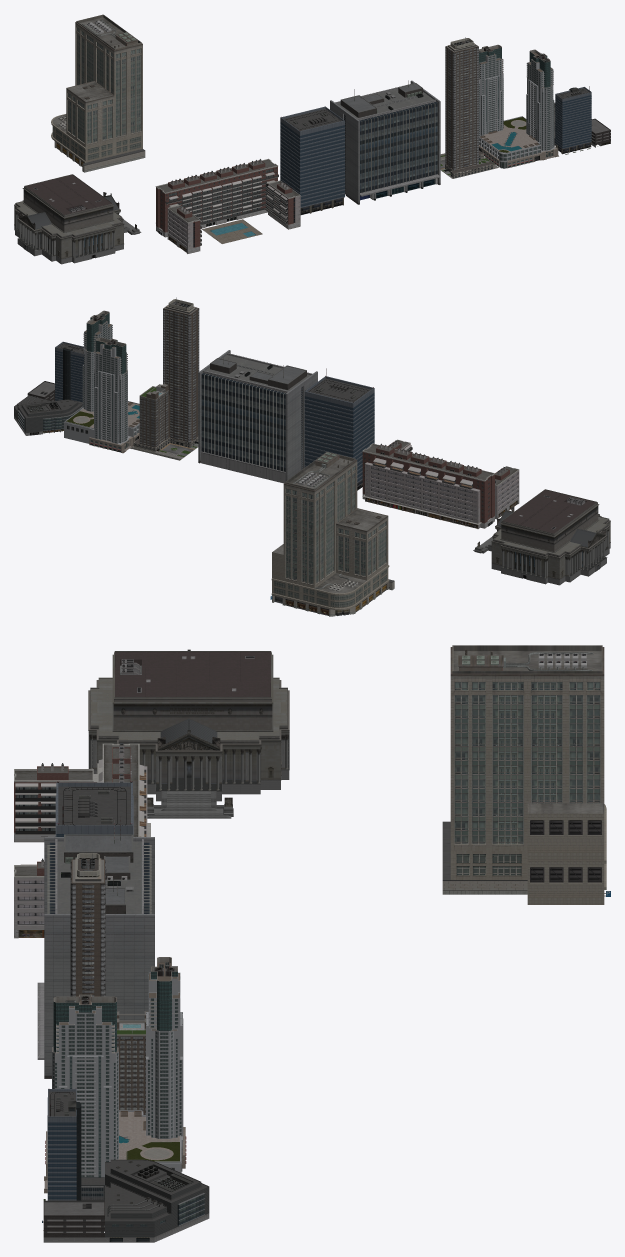
The model's file is edificios_varios.fbx.
The picture shows the model from 3 angles, top to bottom: view 1: azimuth 30°, elevation 25°; view 2: azimuth 150°, elevation 25°; view 3: azimuth 270°, elevation 25°; orthographic projection. The views are drawn at different scales.
Parts seen in each view (by area): view 1: bina.007, bina.001, bina.008, bina.005, bina, bina.009, bina.006, bina.014; view 2: bina.007, bina.001, bina.008, bina.005, bina.006, bina, bina.009, bina.014; view 3: bina.007, bina.005, bina, bina.001, bina.014, bina.008, bina.006, bina.009.
Part boxes in pixels (bbox=[...]): bina.007: bbox=[51, 14, 145, 172]; bina.001: bbox=[330, 80, 440, 204]; bina.008: bbox=[155, 158, 300, 253]; bina.005: bbox=[14, 174, 141, 264]; bina: bbox=[479, 44, 558, 168]; bina.009: bbox=[280, 106, 344, 214]; bina.006: bbox=[440, 37, 498, 178]; bina.014: bbox=[554, 86, 610, 154]; bina.007: bbox=[270, 452, 394, 616]; bina.001: bbox=[198, 350, 317, 483]; bina.008: bbox=[362, 439, 519, 528]; bina.005: bbox=[473, 489, 610, 585]; bina.006: bbox=[130, 297, 199, 460]; bina: bbox=[64, 310, 139, 453]; bina.009: bbox=[304, 368, 374, 490]; bina.014: bbox=[14, 341, 83, 435]; bina.007: bbox=[442, 645, 610, 904]; bina.005: bbox=[88, 649, 289, 818]; bina: bbox=[44, 957, 186, 1193]; bina.001: bbox=[37, 817, 154, 1078]; bina.014: bbox=[42, 1089, 209, 1242]; bina.008: bbox=[14, 743, 150, 938]; bina.006: bbox=[70, 853, 148, 1114]; bina.009: bbox=[55, 781, 133, 836].
Size of what is drawn, in the model's own units: 23262 by 5421 by 11204.
